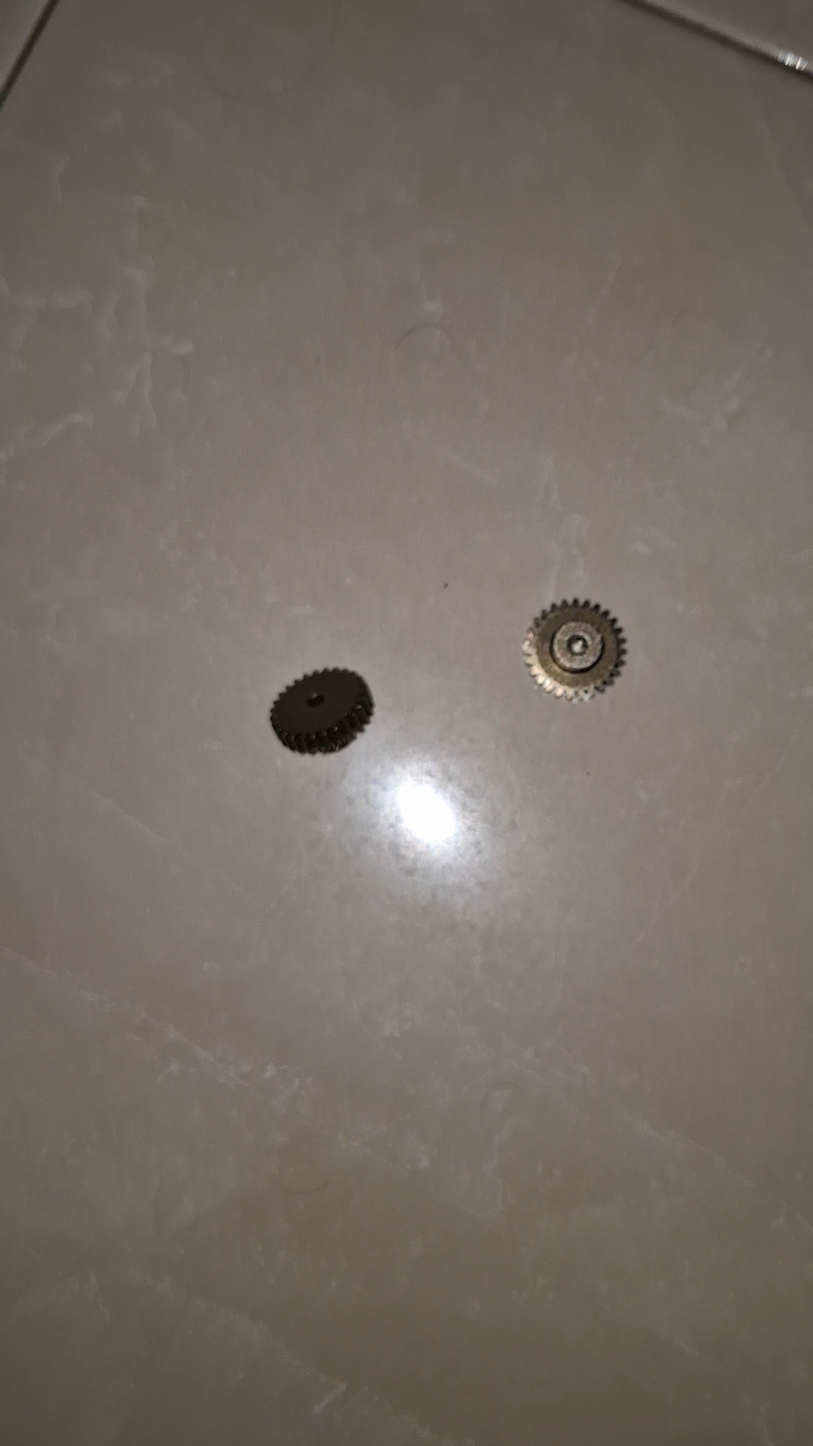spur gear: (523, 600, 625, 701), (271, 670, 373, 754)
